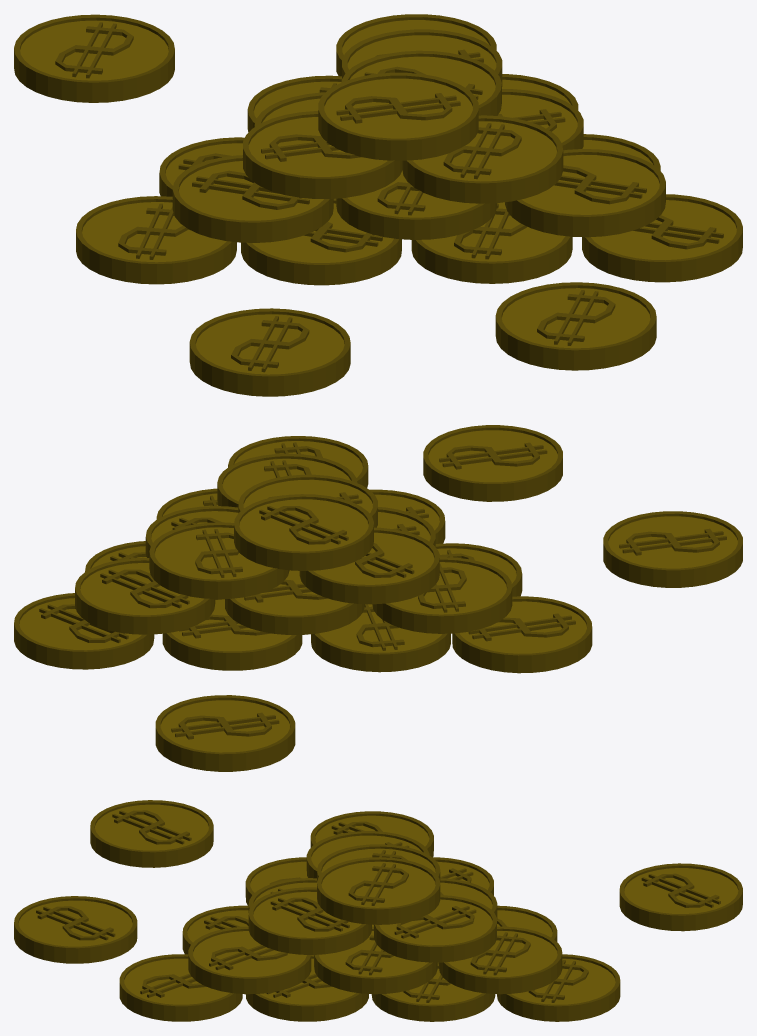
Rendered from Pila de monedas.fbx.
3 views of the same model, one above another, from view 1: azimuth 30°, elevation 25°; view 2: azimuth 150°, elevation 25°; view 3: azimuth 270°, elevation 25° (orthographic). The views are drawn at different scales.
Parts seen in each view (by area): view 1: Circle.002; view 2: Circle.002; view 3: Circle.002.
Boxes of the visible parts, <box> form: Circle.002: <box>14,14,742,396</box>; Circle.002: <box>14,425,742,771</box>; Circle.002: <box>14,800,742,1021</box>.
Bounding box in the file's own units: 851 × 119 × 1272.
23 materials, 23 textured.
